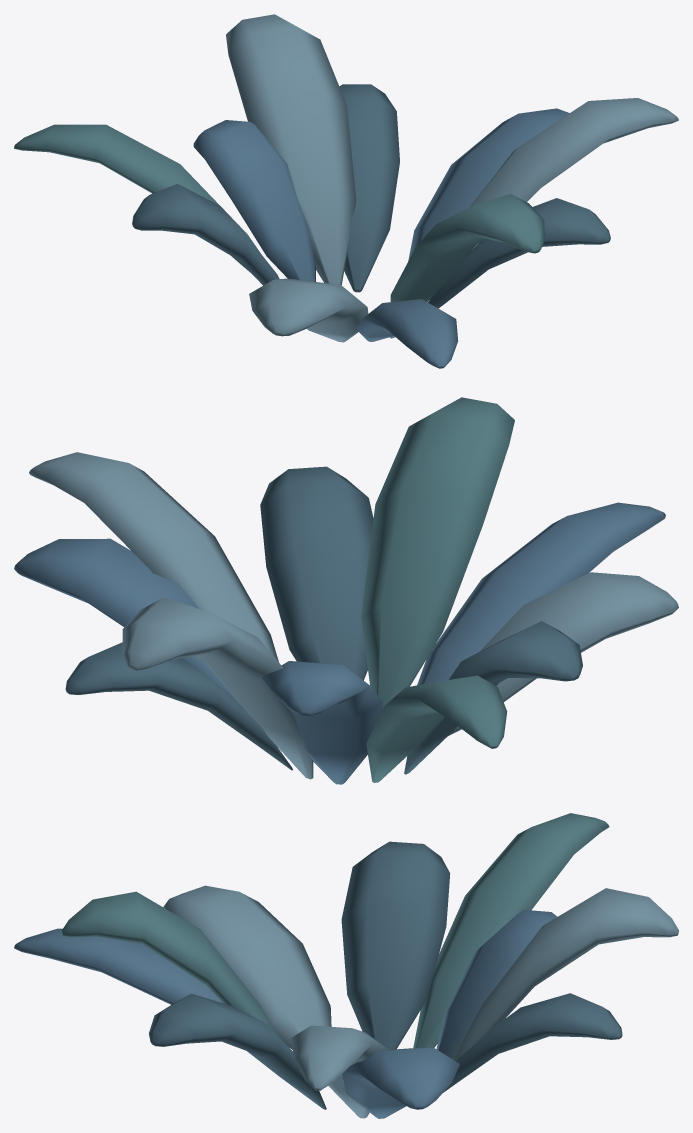
File: low_clump_03.glb
3 views of the same model, one above another, from view 1: azimuth 30°, elevation 25°; view 2: azimuth 150°, elevation 25°; view 3: azimuth 270°, elevation 25° (orthographic). The views are drawn at different scales.
Parts seen in each view (by area): view 1: low_clump_03; view 2: low_clump_03; view 3: low_clump_03.
Part boxes in pixels (x1,y1,x2,y2): low_clump_03: (14, 14, 678, 368); low_clump_03: (14, 397, 678, 784); low_clump_03: (14, 813, 678, 1118).
Size of the model in its own units: 0.9187 by 0.3324 by 0.9642.
